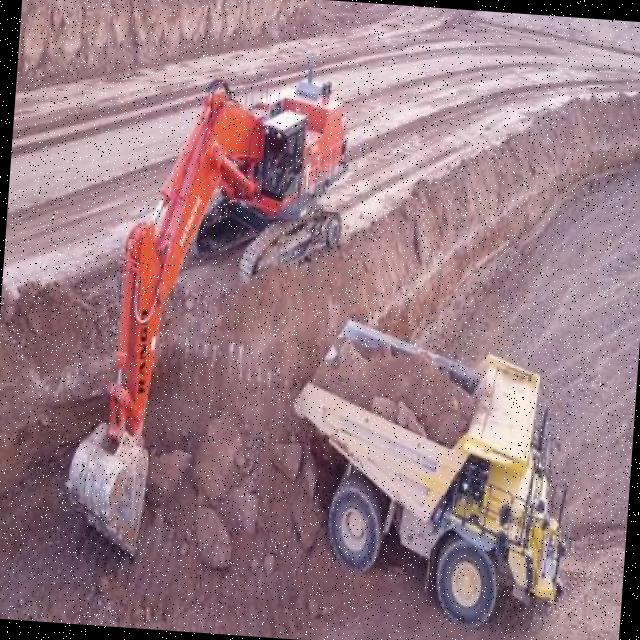Dump Truck: (276, 313, 586, 637)
Excavator: (57, 36, 357, 574)
